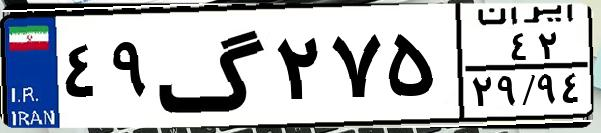2: (270, 28, 330, 110), (537, 27, 568, 80), (470, 70, 495, 125)
4: (57, 26, 110, 100), (560, 70, 590, 125), (508, 27, 537, 80)
5: (385, 28, 445, 110)
7: (330, 28, 385, 110)
9: (110, 28, 156, 98), (495, 70, 520, 125), (535, 70, 560, 125)
گ: (156, 12, 270, 120)
